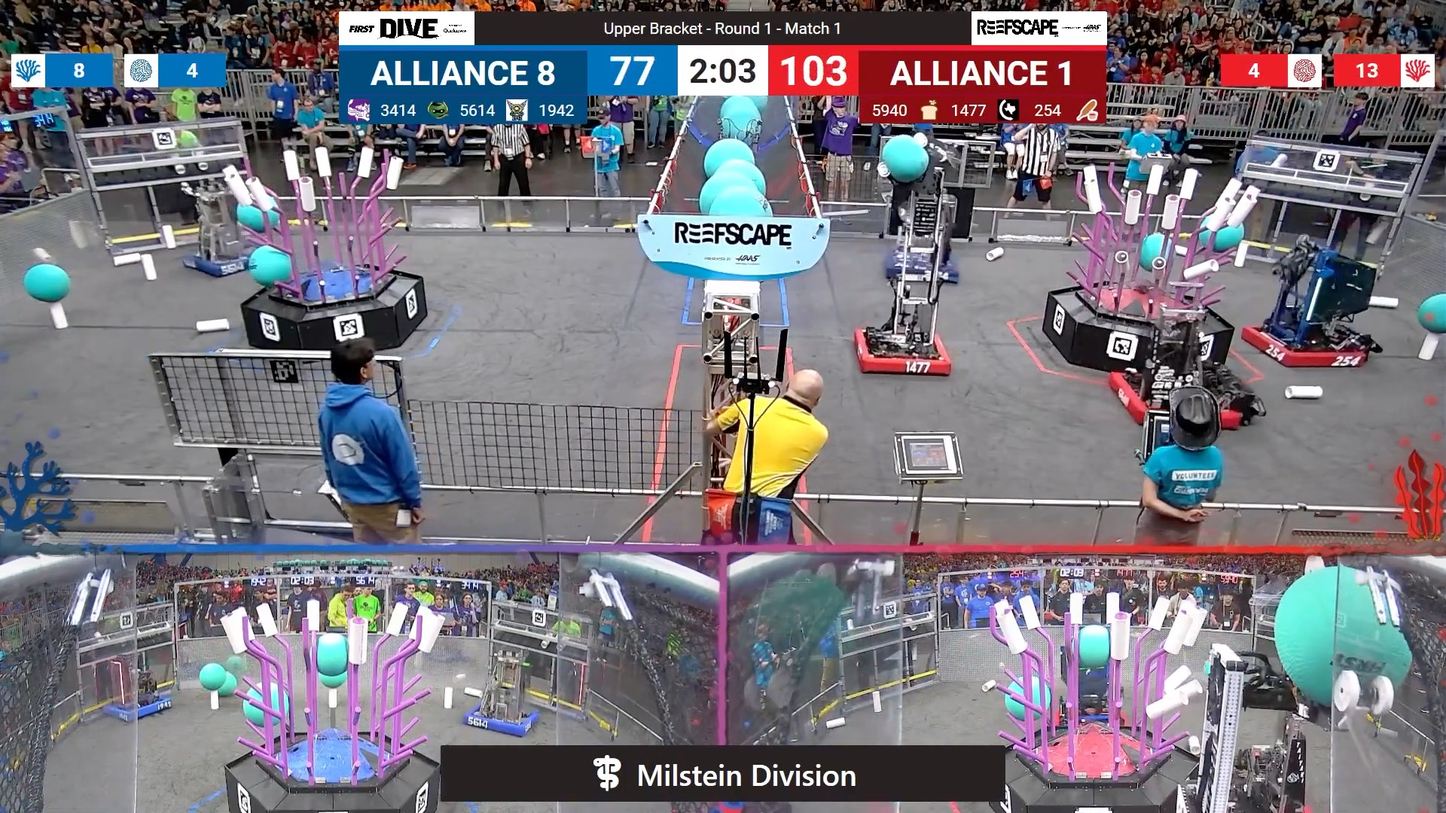bumpers: (1106, 370, 1266, 437), (1235, 319, 1375, 378), (843, 326, 956, 387), (458, 699, 545, 741), (180, 246, 275, 281), (880, 251, 962, 291), (98, 691, 177, 727)
